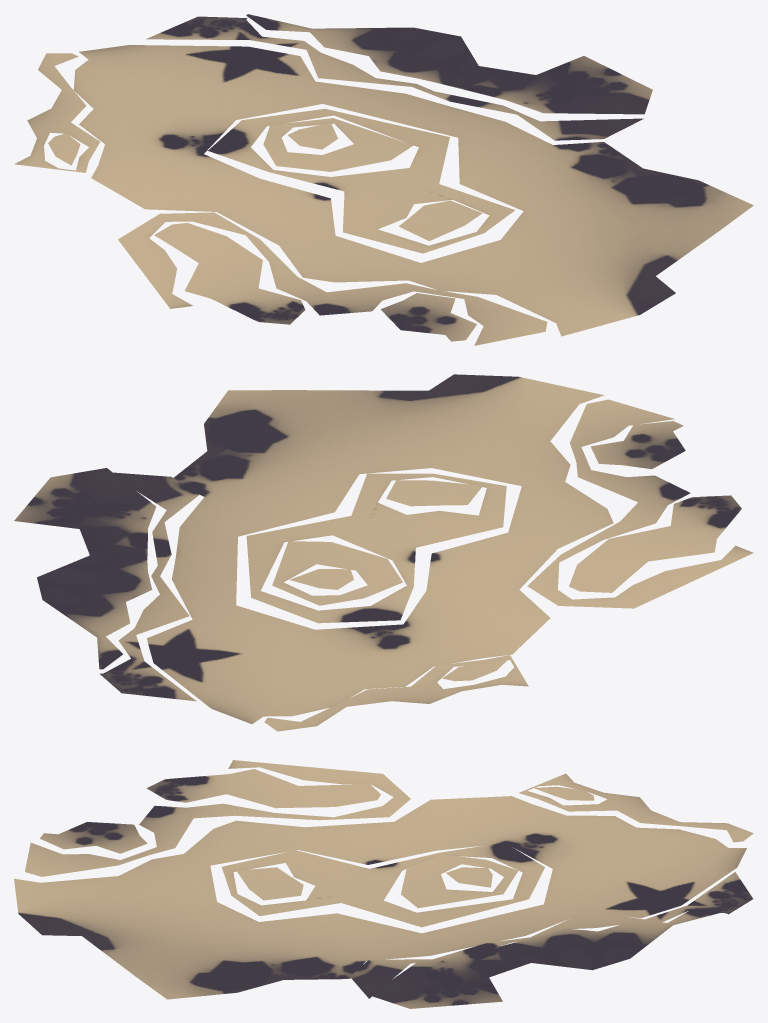
The model's file is Ground_01.FBX.
3 views of the same model, one above another, from view 1: azimuth 30°, elevation 25°; view 2: azimuth 150°, elevation 25°; view 3: azimuth 270°, elevation 25° (orthographic). The views are drawn at different scales.
Visible parts, largest first — view 1: Ground_01; view 2: Ground_01; view 3: Ground_01.
Part boxes in pixels (<box>): Ground_01: <box>14,14,753,345</box>; Ground_01: <box>14,374,753,731</box>; Ground_01: <box>14,760,753,1008</box>.
Bounding box in the file's own units: 22.26 × 0.3 × 27.56.
